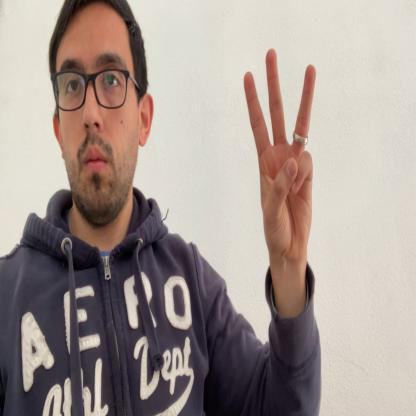W: (244, 47, 317, 268)
